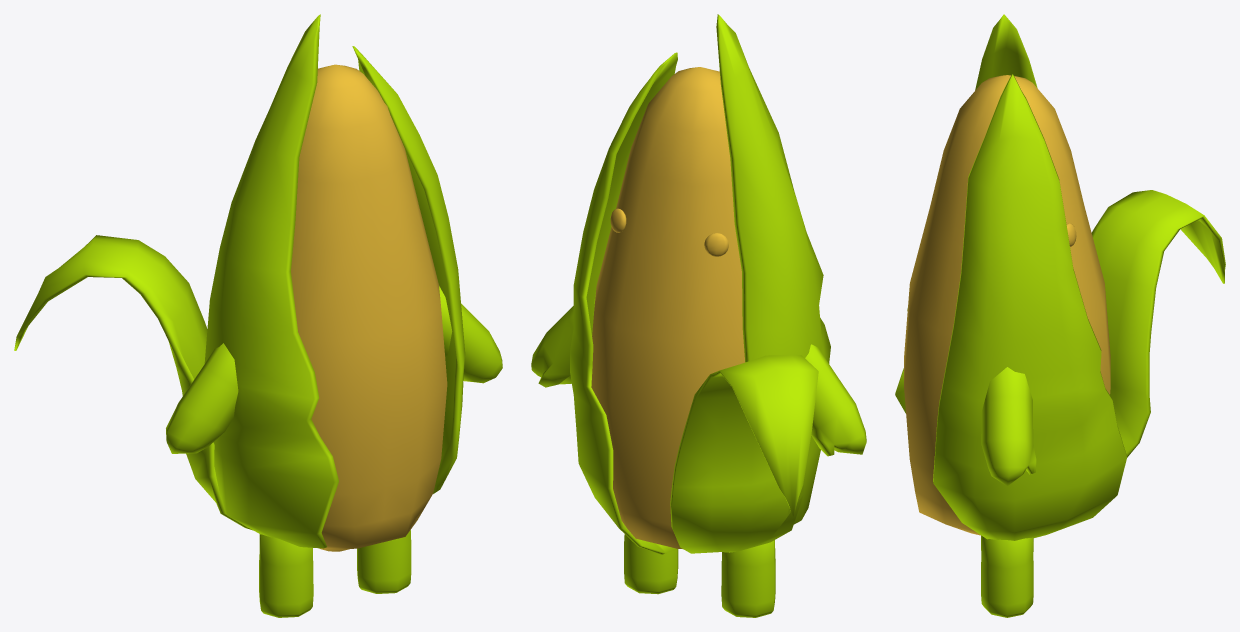
The model's file is MaÏs 1.fbx.
The picture shows the model from 3 angles, left to right: view 1: azimuth 30°, elevation 25°; view 2: azimuth 150°, elevation 25°; view 3: azimuth 270°, elevation 25°; orthographic projection. The views are drawn at different scales.
Visible parts, largest first — view 1: maÏs, feuille5_low.001, feuille5_low.002, feuille5_low, Cube.001, Cube; view 2: maÏs, feuille5_low.002, feuille5_low.001, feuille5_low, Cube, Cube.001, Sphere; view 3: feuille5_low, maÏs, feuille5_low.002, Cube.001, Cube, feuille5_low.001.
Part boxes in pixels (left/top/right/bottom): maÏs: left=291, top=64, right=447, bottom=551; feuille5_low.001: left=204, top=14, right=338, bottom=548; feuille5_low.002: left=14, top=235, right=252, bottom=530; feuille5_low: left=352, top=46, right=465, bottom=493; Cube.001: left=166, top=286, right=502, bottom=453; Cube: left=259, top=530, right=411, bottom=617; maÏs: left=591, top=67, right=745, bottom=548; feuille5_low.002: left=670, top=355, right=818, bottom=553; feuille5_low.001: left=716, top=14, right=830, bottom=524; feuille5_low: left=570, top=52, right=677, bottom=554; Cube: left=624, top=534, right=775, bottom=617; Cube.001: left=531, top=293, right=866, bottom=456; Sphere: left=610, top=208, right=728, bottom=256; feuille5_low: left=933, top=73, right=1126, bottom=540; maÏs: left=904, top=75, right=1110, bottom=535; feuille5_low.002: left=1091, top=190, right=1225, bottom=457; Cube.001: left=981, top=367, right=1036, bottom=486; Cube: left=981, top=535, right=1033, bottom=617; feuille5_low.001: left=895, top=14, right=1037, bottom=413.
Bounding box in the file's own units: 178 × 265 × 141.
